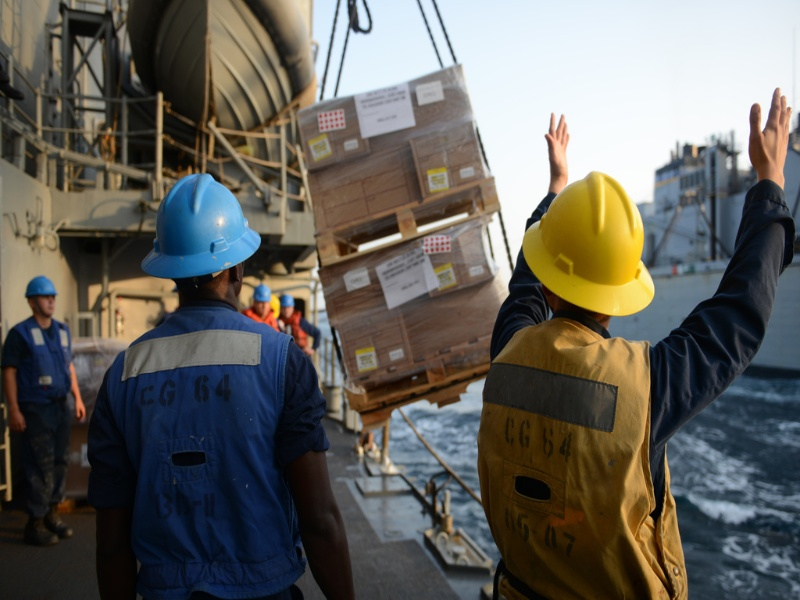helmet: (522, 171, 656, 315), (140, 173, 267, 279), (22, 277, 60, 296)
jacket: (98, 313, 304, 594), (492, 328, 688, 596), (11, 318, 72, 408)
